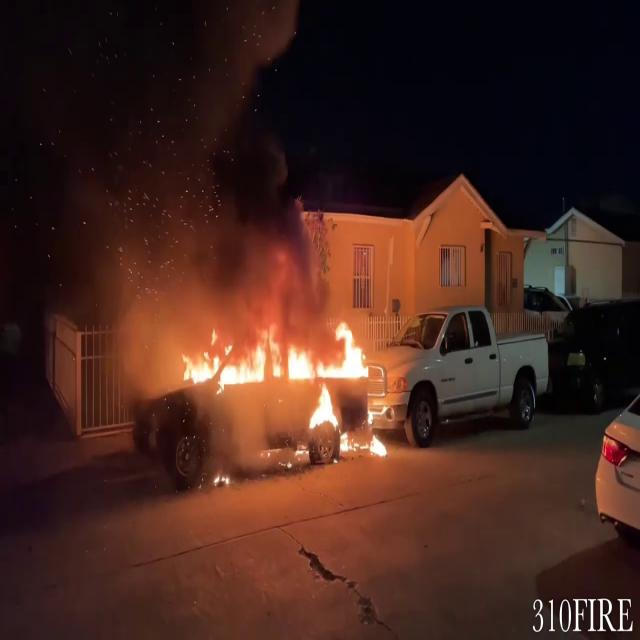Fire: (176, 315, 382, 415), (307, 381, 390, 460)
Smoke: (13, 2, 327, 374)
